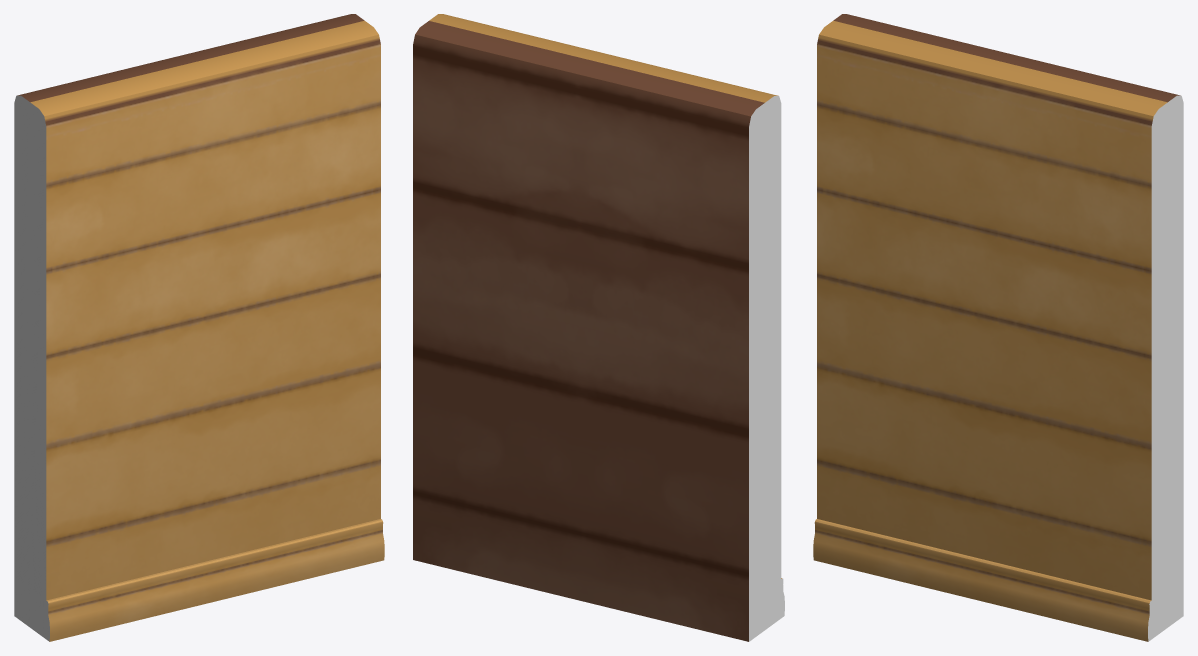
File: Wall_outer_flat_02.fbx
The picture shows the model from 3 angles, left to right: view 1: azimuth 30°, elevation 25°; view 2: azimuth 150°, elevation 25°; view 3: azimuth 330°, elevation 25°; orthographic projection.
Visible parts, largest first — view 1: OuterWall_Hor_00.010; view 2: OuterWall_Hor_00.010; view 3: OuterWall_Hor_00.010.
Part boxes in pixels (x1,y1,x2,y2): OuterWall_Hor_00.010: [14, 14, 384, 641]; OuterWall_Hor_00.010: [413, 14, 784, 641]; OuterWall_Hor_00.010: [813, 14, 1183, 641].
Size of the model in its own units: 100 by 150 by 18.46.
